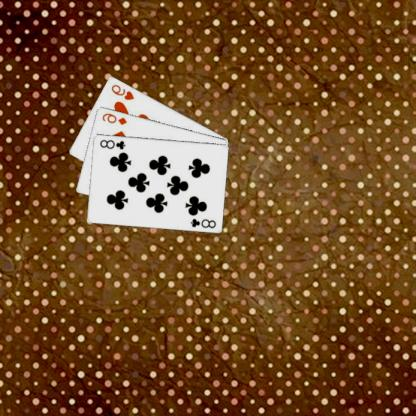6D: (101, 110, 130, 126)
8C: (99, 136, 128, 150), (189, 216, 219, 229)
9H: (110, 82, 138, 102)
